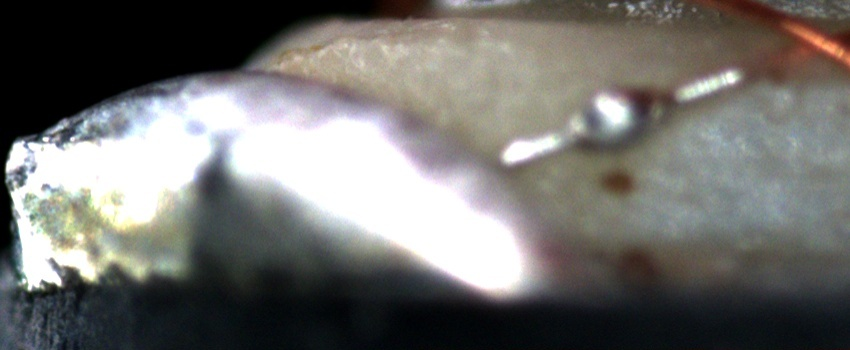DL: (709, 149, 850, 200), (722, 73, 850, 113)
TB: (571, 85, 670, 153)
TS: (503, 68, 743, 164)
TTCW: (486, 36, 817, 171)
